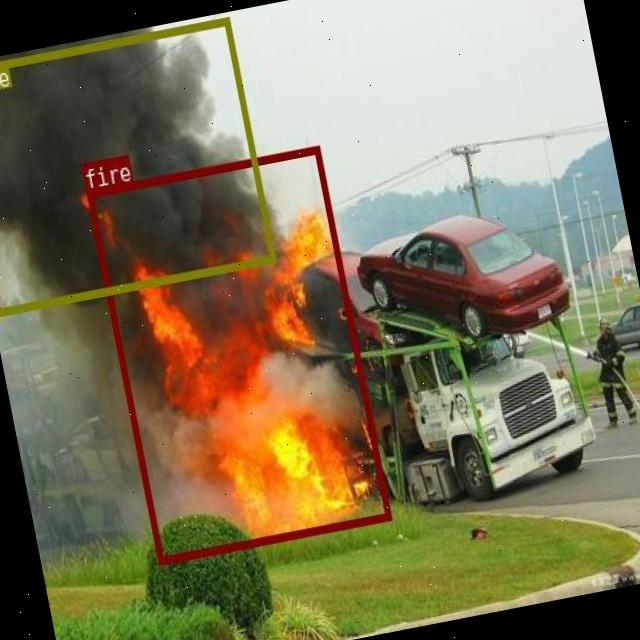fire: (86, 145, 390, 564)
smoke: (0, 17, 275, 315)
